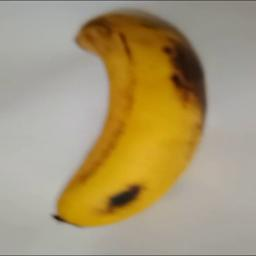Apple Fresh: (32, 2, 62, 8)
